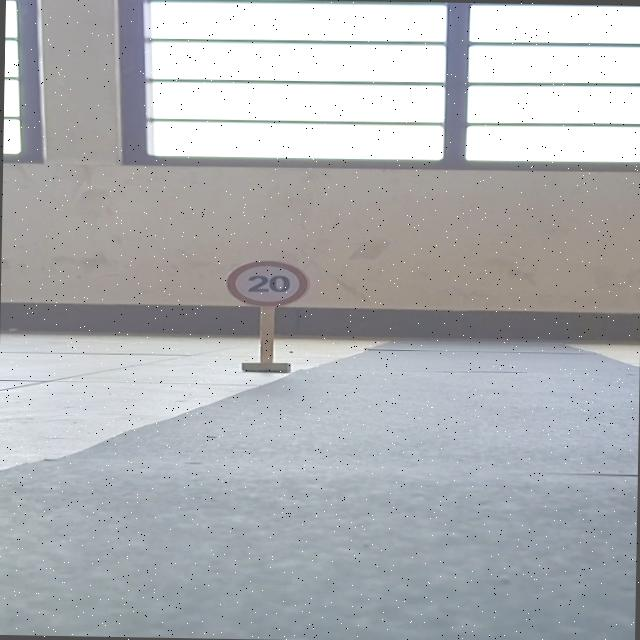Speed20: (218, 252, 318, 312)
